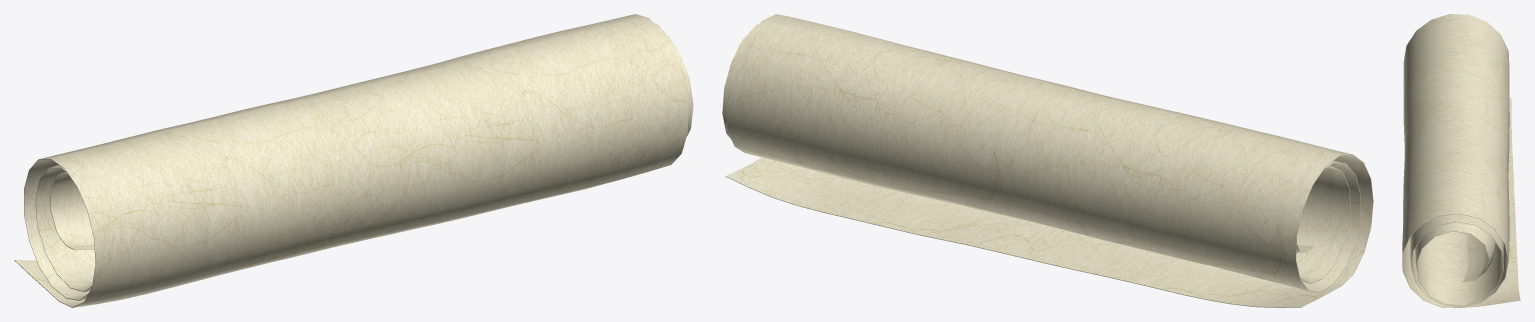
3 views of the same model, side by side, from view 1: azimuth 30°, elevation 25°; view 2: azimuth 150°, elevation 25°; view 3: azimuth 270°, elevation 25° (orthographic). The views are drawn at different scales.
Visible parts, largest first — view 1: Plane002; view 2: Plane002; view 3: Plane002.
Part boxes in pixels (left/top/right/bottom): Plane002: left=14, top=14, right=693, bottom=307; Plane002: left=722, top=14, right=1373, bottom=307; Plane002: left=1402, top=14, right=1520, bottom=307.
Bounding box in the file's own units: 20.77 × 4.69 × 5.01.
Materials: 1 (1 with a texture image).
